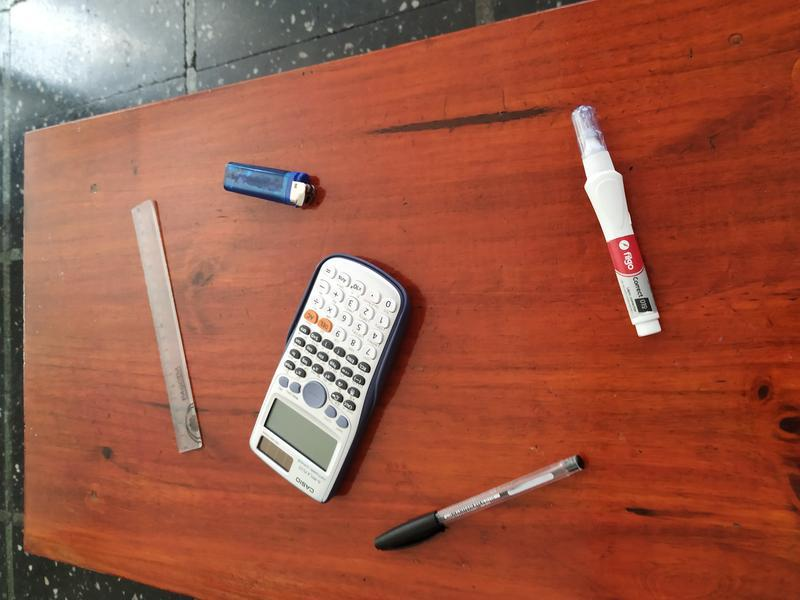calculadora: (247, 243, 417, 506)
corrector: (563, 93, 668, 342)
encendedor: (218, 152, 321, 215)
lapicera: (367, 450, 594, 566)
regla: (123, 196, 205, 460)
